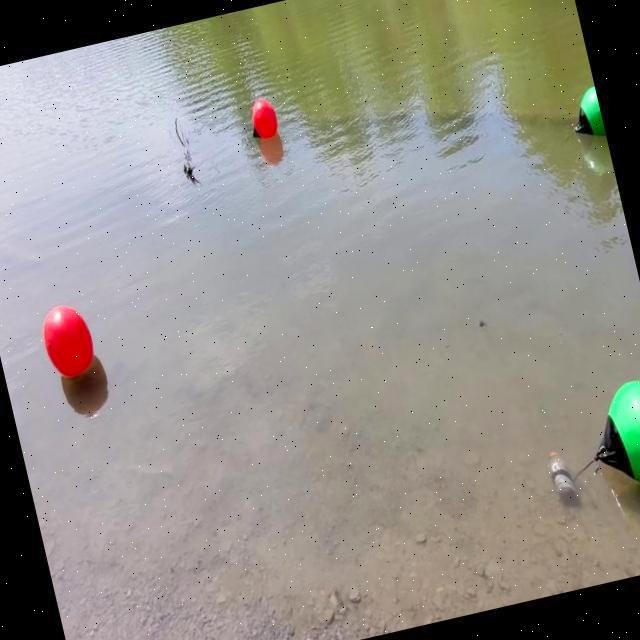buoy: (583, 373, 640, 497), (36, 298, 100, 382), (570, 84, 606, 140), (243, 94, 280, 142)
